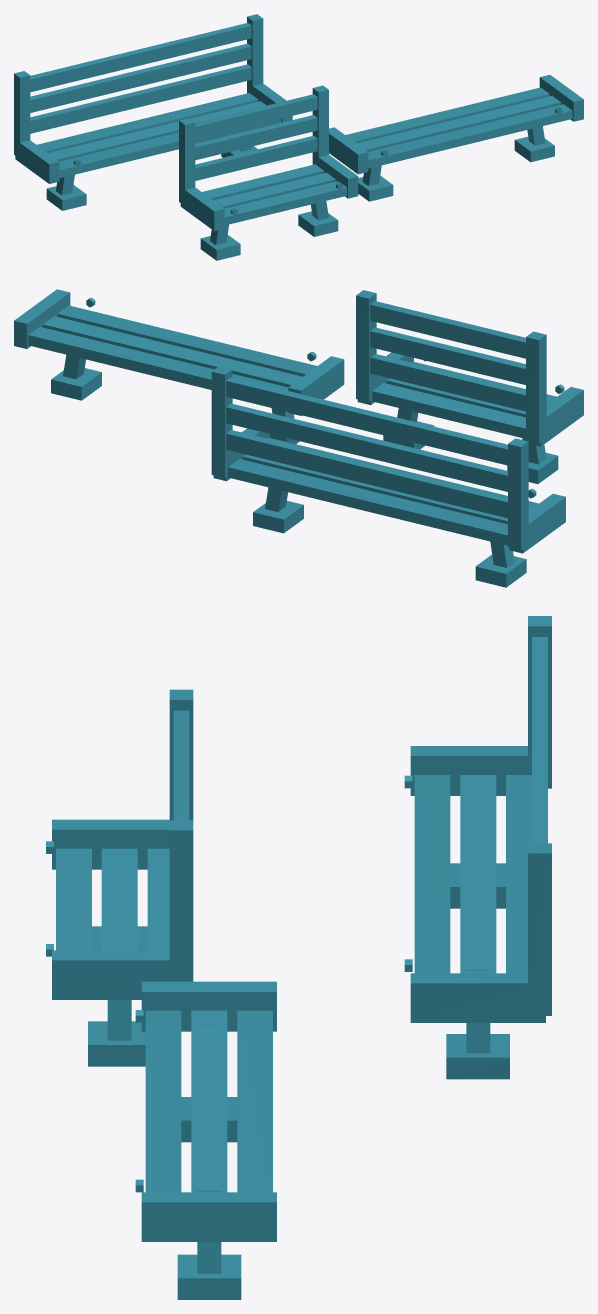
File: benches.source.glb
3 views of the same model, one above another, from view 1: azimuth 30°, elevation 25°; view 2: azimuth 150°, elevation 25°; view 3: azimuth 270°, elevation 25° (orthographic). The views are drawn at different scales.
Visible parts, largest first — view 1: benches-standard-backrest-bench-back-slat-0.78-mesh, benches-standard-backrest-bench-back-slat-1.24-mesh, benches-standard-backrest-bench-back-slat-1.01-mesh, benches-long-backless-bench-seat-slat-0.23-mesh, benches-standard-backrest-bench-seat-slat--0.23-mesh, benches-standard-backrest-bench-seat-slat-0.23-mesh, benches-long-backless-bench-seat-slat--0.23-mesh, benches-long-backless-bench-seat-slat-0-mesh, benches-short-two-seat-bench-back-slat-1.01-mesh, benches-short-two-seat-bench-back-slat-1.24-mesh, benches-short-two-seat-bench-back-slat-0.78-mesh, benches-short-two-seat-bench-seat-slat-0.23-mesh (+18 smaller); view 2: benches-standard-backrest-bench-seat-slat--0.23-mesh, benches-standard-backrest-bench-back-slat-1.01-mesh, benches-standard-backrest-bench-back-slat-0.78-mesh, benches-standard-backrest-bench-back-slat-1.24-mesh, benches-long-backless-bench-seat-slat--0.23-mesh, benches-long-backless-bench-seat-slat-0.23-mesh, benches-long-backless-bench-seat-slat-0-mesh, benches-short-two-seat-bench-back-slat-1.24-mesh, benches-short-two-seat-bench-back-slat-0.78-mesh, benches-short-two-seat-bench-back-slat-1.01-mesh, benches-short-two-seat-bench-seat-slat--0.23-mesh, benches-standard-backrest-bench-back-end--1.35-mesh (+19 smaller); view 3: benches-standard-backrest-bench-seat-slat-0.23-mesh, benches-standard-backrest-bench-seat-slat-0-mesh, benches-long-backless-bench-teal-end-1.25-mesh, benches-long-backless-bench-seat-slat-0.23-mesh, benches-long-backless-bench-seat-slat-0-mesh, benches-standard-backrest-bench-teal-end-1.35-mesh, benches-long-backless-bench-seat-slat--0.23-mesh, benches-short-two-seat-bench-teal-end-0.775-mesh, benches-long-backless-bench-teal-end--1.25-mesh, benches-standard-backrest-bench-seat-slat--0.23-mesh, benches-short-two-seat-bench-teal-end--0.775-mesh, benches-standard-backrest-bench-teal-end--1.35-mesh (+15 smaller).
Boxes of the visible parts, x1,y1,x2,y2 form: benches-standard-backrest-bench-back-slat-0.78-mesh: (30,64,251,133); benches-standard-backrest-bench-back-slat-1.24-mesh: (30,23,251,92); benches-standard-backrest-bench-back-slat-1.01-mesh: (30,43,251,112); benches-long-backless-bench-seat-slat-0.23-mesh: (368,104,572,168); benches-standard-backrest-bench-seat-slat--0.23-mesh: (37,93,258,152); benches-standard-backrest-bench-seat-slat-0.23-mesh: (59,118,281,178); benches-long-backless-bench-seat-slat--0.23-mesh: (345,87,549,143); benches-long-backless-bench-seat-slat-0-mesh: (357,96,561,151); benches-short-two-seat-bench-back-slat-1.01-mesh: (195,115,317,160); benches-short-two-seat-bench-back-slat-1.24-mesh: (195,94,317,139); benches-short-two-seat-bench-back-slat-0.78-mesh: (195,135,317,180); benches-short-two-seat-bench-seat-slat-0.23-mesh: (224,181,346,225); benches-standard-backrest-bench-seat-slat--0.23-mesh: (228,459,507,545); benches-standard-backrest-bench-back-slat-1.01-mesh: (226,403,507,491); benches-standard-backrest-bench-back-slat-0.78-mesh: (226,430,507,518); benches-standard-backrest-bench-back-slat-1.24-mesh: (226,377,507,465); benches-long-backless-bench-seat-slat--0.23-mesh: (28,327,288,390); benches-long-backless-bench-seat-slat-0.23-mesh: (57,305,317,376); benches-long-backless-bench-seat-slat-0-mesh: (43,316,302,387); benches-short-two-seat-bench-back-slat-1.24-mesh: (370,301,525,358); benches-short-two-seat-bench-back-slat-0.78-mesh: (370,354,525,411); benches-short-two-seat-bench-back-slat-1.01-mesh: (370,327,525,384); benches-short-two-seat-bench-seat-slat--0.23-mesh: (372,383,525,438); benches-standard-backrest-bench-back-end--1.35-mesh: (508,438,528,550); benches-standard-backrest-bench-seat-slat-0.23-mesh: (414,775,450,973); benches-standard-backrest-bench-seat-slat-0-mesh: (460,775,496,973); benches-long-backless-bench-teal-end-1.25-mesh: (141,1192,276,1241); benches-long-backless-bench-seat-slat-0.23-mesh: (145,1010,181,1192); benches-long-backless-bench-seat-slat-0-mesh: (191,1010,227,1192); benches-standard-backrest-bench-teal-end-1.35-mesh: (410,973,545,1022); benches-long-backless-bench-seat-slat--0.23-mesh: (237,1010,272,1192); benches-short-two-seat-bench-teal-end-0.775-mesh: (52,950,187,999); benches-long-backless-bench-teal-end--1.25-mesh: (141,981,276,1031); benches-standard-backrest-bench-seat-slat--0.23-mesh: (506,775,531,973); benches-short-two-seat-bench-teal-end--0.775-mesh: (52,819,169,869); benches-standard-backrest-bench-teal-end--1.35-mesh: (410,746,531,795).
Bounding box in the file's own units: 5.42 × 1.37 × 2.54.
